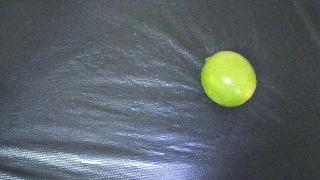LOCAL: (201, 51, 257, 107)
